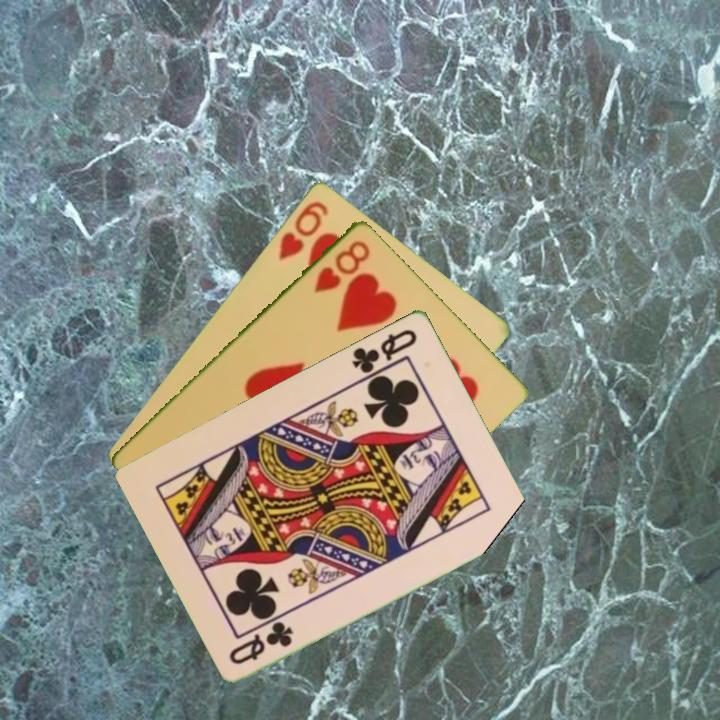6h: (274, 196, 331, 263)
8h: (309, 236, 373, 296)
Qc: (348, 324, 420, 383), (225, 618, 296, 667)
